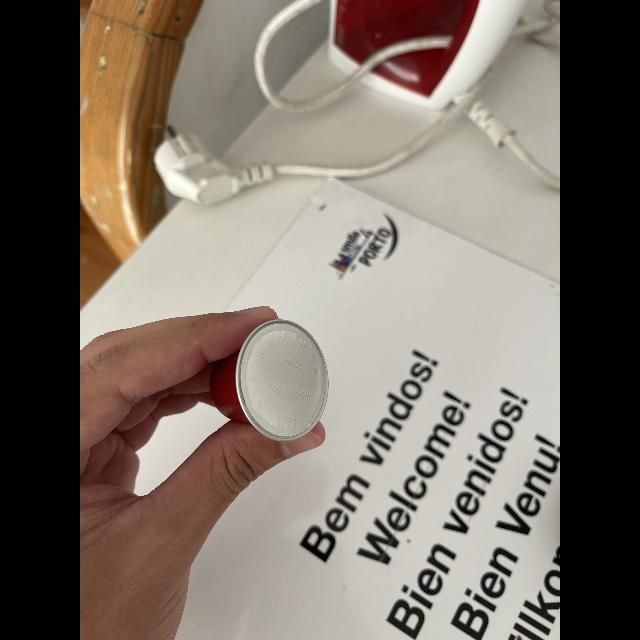intact_capsule: (210, 316, 336, 448)
